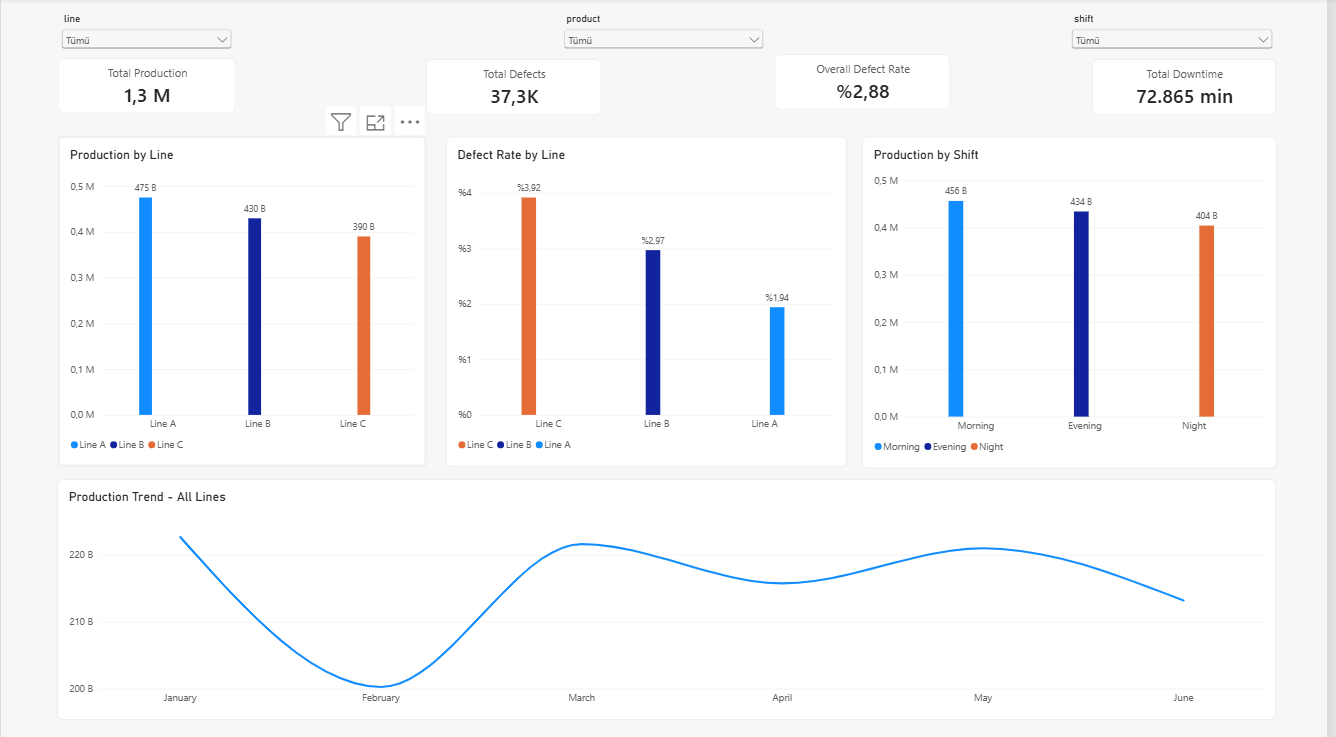

The dashboard page shown, as its layout file describes it:
{"tool":"powerbi","page":{"name":"Production Overview","canvas":[1920,1080],"ordinal":0},"visuals":[{"type":"cardVisual","fields":{"Data":["production_data.Total Production"]},"box":[82.5,87.5,256,80],"z":0},{"type":"cardVisual","fields":{"Data":["production_data.Total Defects Display"]},"box":[616,88,254,80],"z":1000},{"type":"cardVisual","fields":{"Data":["production_data.Total Downtime Display"]},"box":[1580,88,266,80],"z":2000},{"type":"cardVisual","fields":{"Data":["production_data.Average Defect Rate"]},"box":[1120,82,254,80],"z":3000},{"type":"clusteredColumnChart","title":"Production by Line","fields":{"Category":["vw_line_performance.line"],"Series":["vw_line_performance.line"],"Y":["production_data.Total Production"]},"box":[82.5,200,532.5,477.5],"z":4000},{"type":"clusteredColumnChart","title":"Defect Rate by Line","fields":{"Category":["vw_line_performance.line"],"Series":["vw_line_performance.line"],"Y":["production_data.Average Defect Rate"]},"box":[645,200,580,477.5],"z":5000},{"type":"clusteredColumnChart","title":"Production by Shift","fields":{"Category":["production_data.shift"],"Series":["production_data.shift"],"Y":["production_data.Total Production"]},"box":[1247.5,200,600,480],"z":6000},{"type":"lineChart","fields":{"Category":["production_data.month_name"],"Y":["production_data.Total Production"]},"box":[82,696,1764,348],"z":7000},{"type":"slicer","fields":{"Values":["production_data.line"]},"box":[82.5,22.5,255,60],"z":8000},{"type":"slicer","fields":{"Values":["production_data.product"]},"box":[810,22.5,297.5,65],"z":9000},{"type":"slicer","fields":{"Values":["production_data.shift"]},"box":[1545,22.5,300,60],"z":10000}]}

Visuals, with their boxes in screenshot pixels (x1, y1, x2, y2), scaled from the page's 1920x1080 canvas onto the 1336x737 screenshot:
cardVisual - production_data.Total Production: 57/60/236/114
cardVisual - production_data.Total Defects Display: 429/60/605/115
cardVisual - production_data.Total Downtime Display: 1099/60/1285/115
cardVisual - production_data.Average Defect Rate: 779/56/956/111
"Production by Line" clusteredColumnChart: 57/136/428/462
"Defect Rate by Line" clusteredColumnChart: 449/136/852/462
"Production by Shift" clusteredColumnChart: 868/136/1286/464
lineChart - production_data.month_name x production_data.Total Production: 57/475/1285/712
slicer - production_data.line: 57/15/235/56
slicer - production_data.product: 564/15/771/60
slicer - production_data.shift: 1075/15/1284/56
